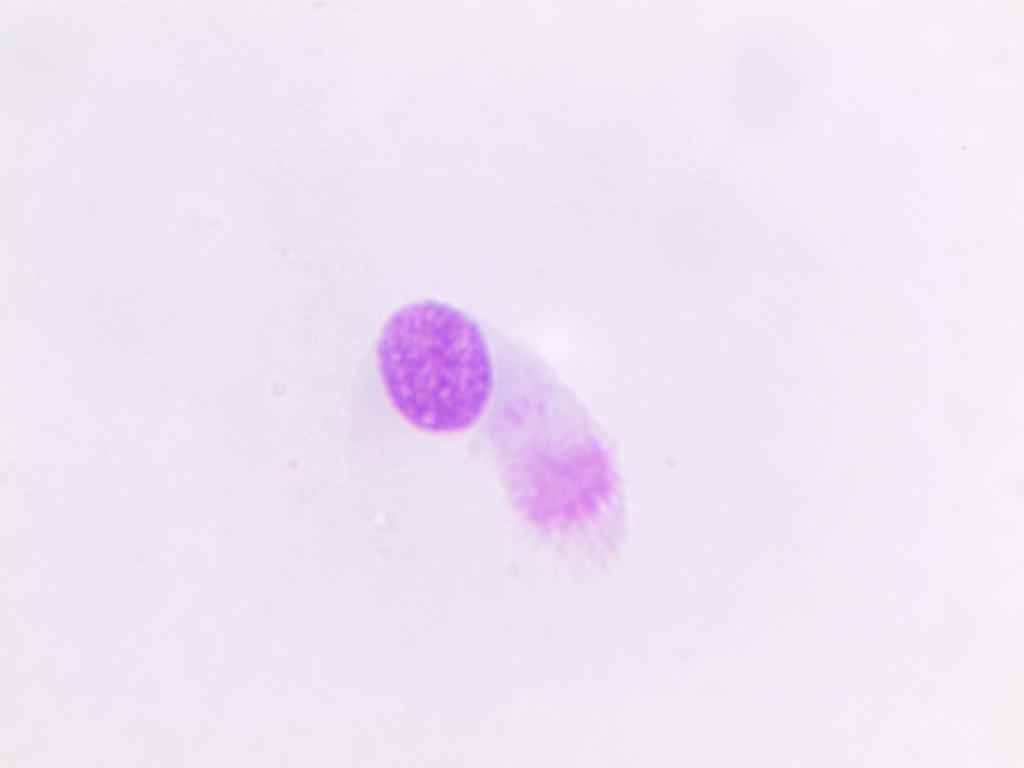ciliated: (344, 281, 656, 566)
